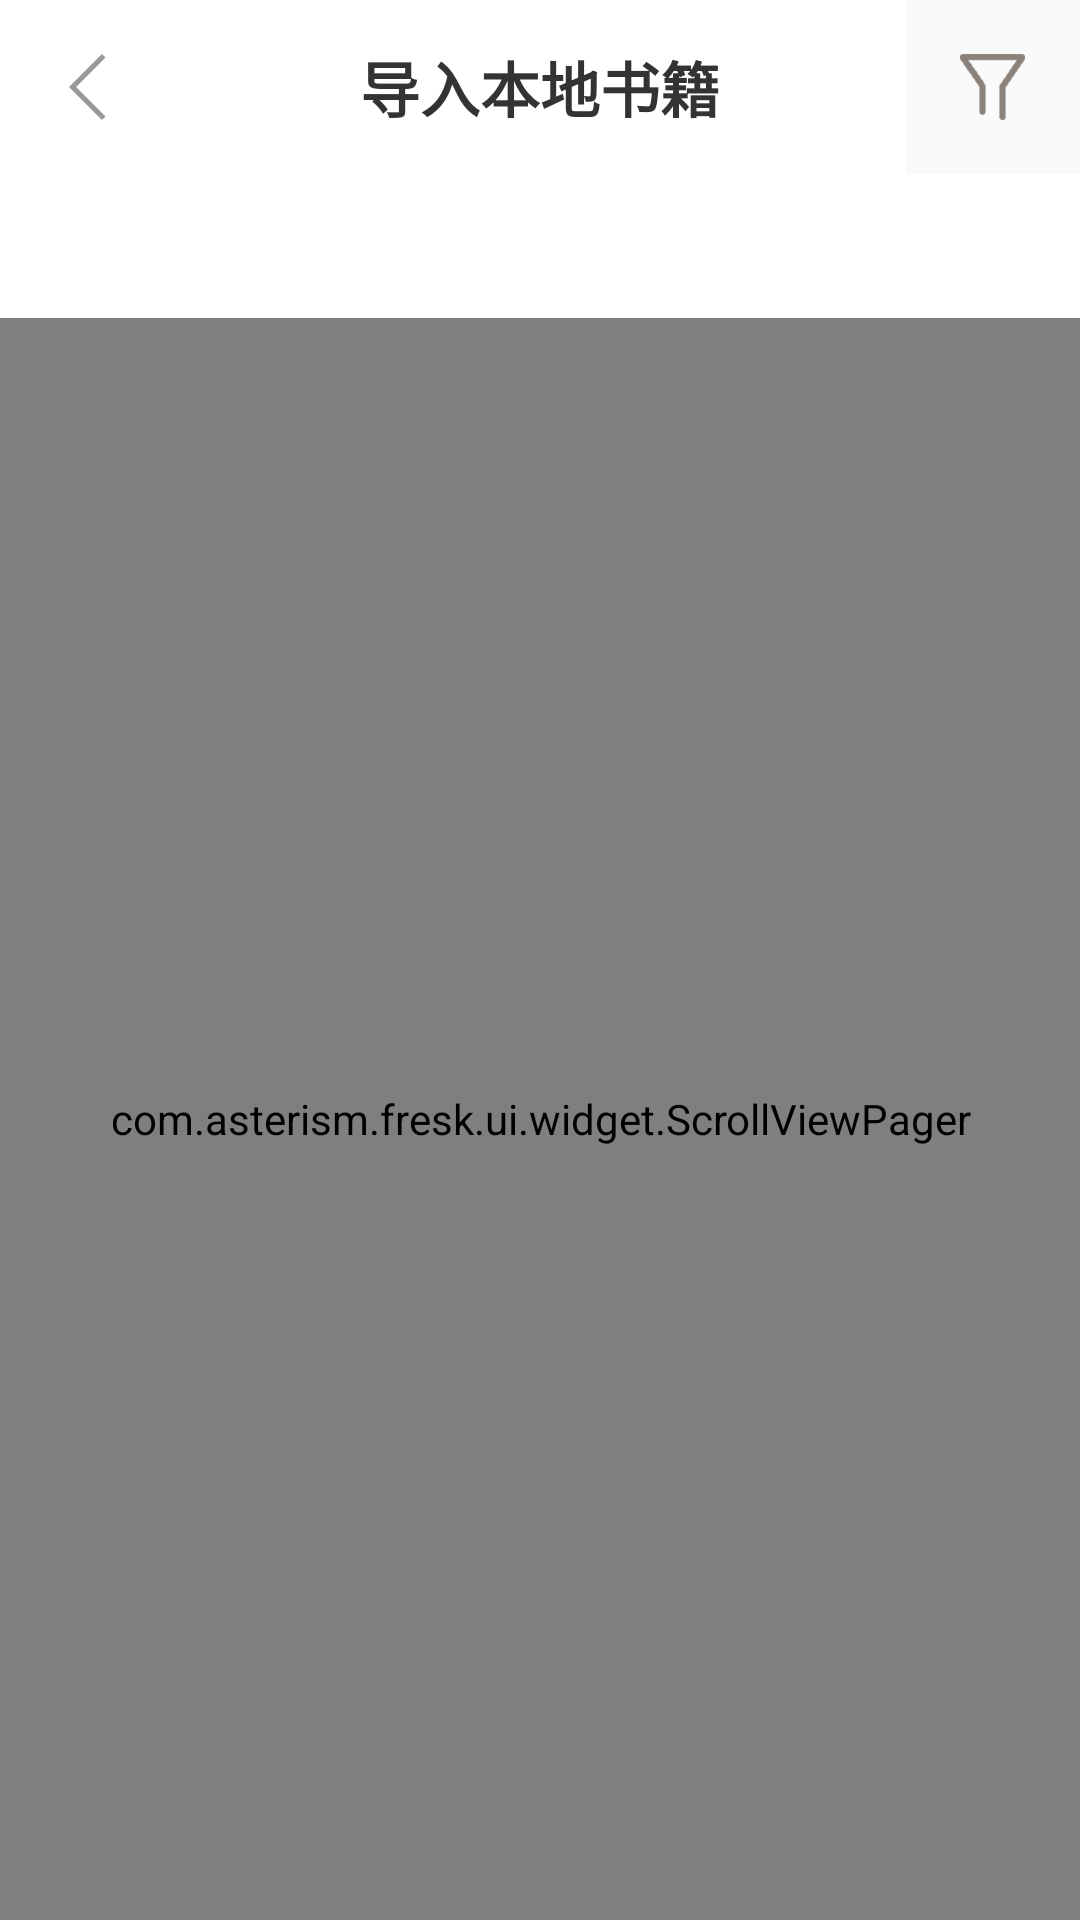

Where to tap for icons on this 1080×1920 app screen, as point (x, y):
filter: point (992, 87)
title return: point (87, 87)
